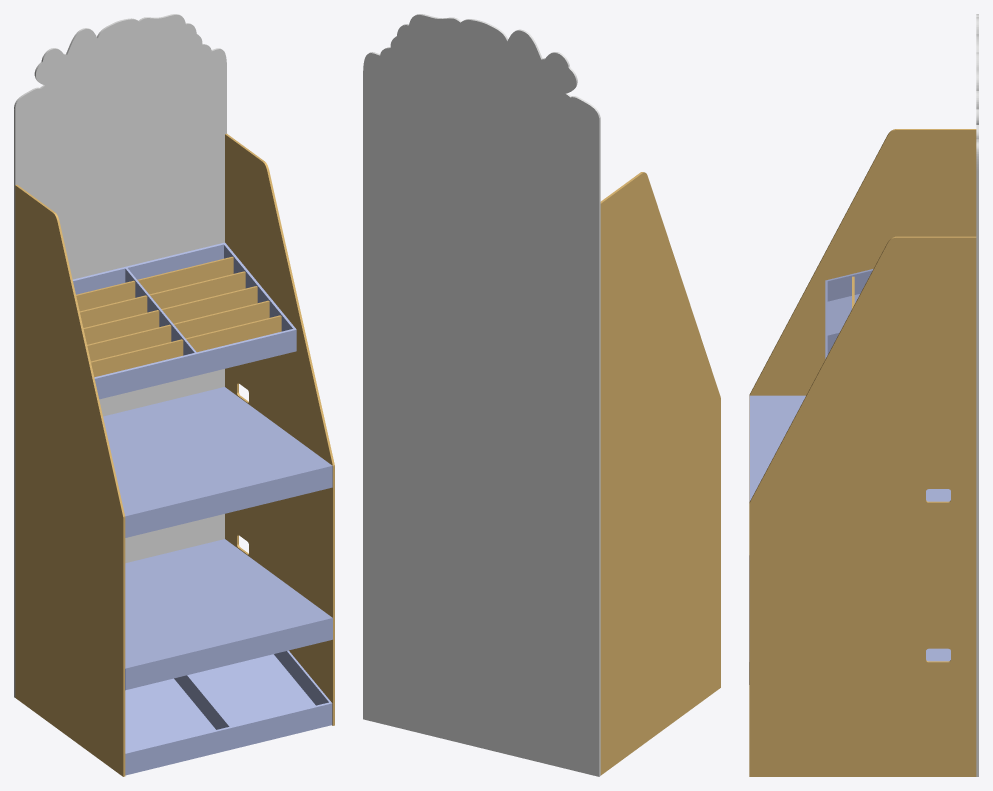
Rendered from Davin - S188299.glb.
The picture shows the model from 3 angles, left to right: view 1: azimuth 30°, elevation 25°; view 2: azimuth 150°, elevation 25°; view 3: azimuth 270°, elevation 25°; orthographic projection. The views are drawn at different scales.
Parts seen in each view (by area): view 1: Curve.004, Curve, Curve.005, Curve.002, Curve.006, Curve.003, Curve.007, Curve.001, Curve.009, Curve.008; view 2: Curve.004, Curve; view 3: Curve.005, Curve, Curve.002, Curve.004, Curve.001, Curve.006.
Boxes of the visible parts, x1,y1,x2,y2 form: Curve.004: (14, 14, 226, 697); Curve: (15, 184, 125, 776); Curve.005: (225, 133, 334, 725); Curve.002: (103, 387, 332, 537); Curve.006: (125, 539, 332, 690); Curve.003: (125, 650, 332, 775); Curve.007: (76, 256, 281, 377); Curve.001: (72, 242, 296, 399); Curve.009: (174, 675, 231, 729); Curve.008: (125, 268, 196, 355); Curve.004: (363, 14, 600, 776); Curve: (600, 172, 720, 775); Curve.005: (749, 236, 976, 776); Curve: (749, 129, 976, 502); Curve.002: (749, 395, 950, 501); Curve.004: (976, 14, 978, 776); Curve.001: (825, 269, 873, 358); Curve.006: (749, 555, 950, 684).
Bounding box in the file's own units: 5.1 × 15 × 4.56.
